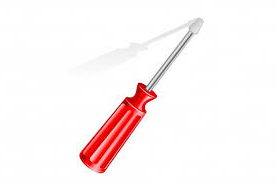screwdriver: (76, 19, 230, 180)
